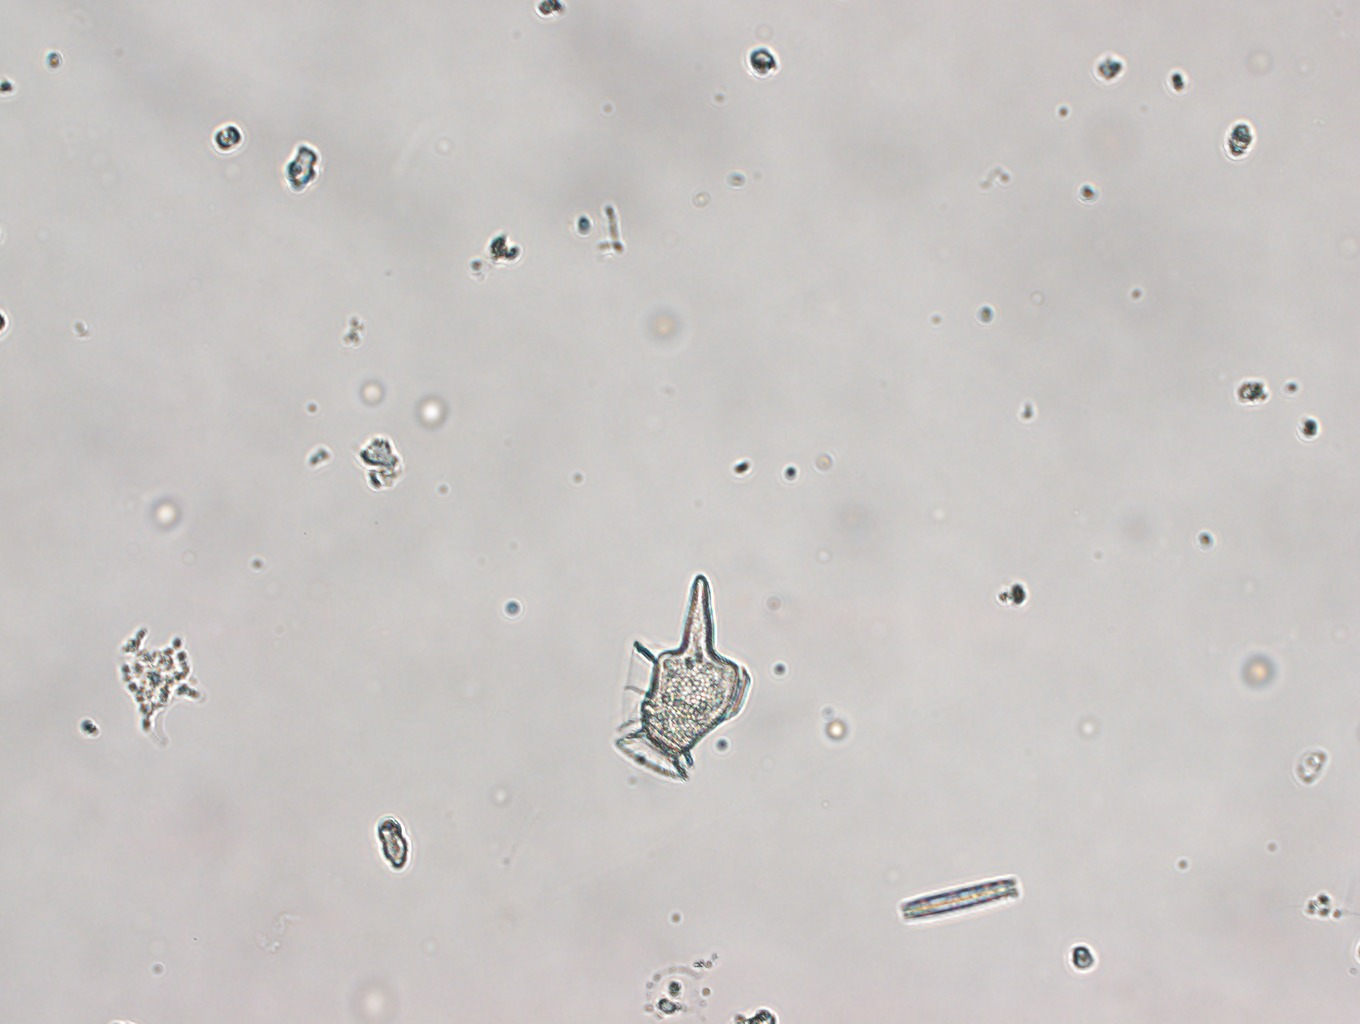dinophysis caudata: (599, 567, 759, 792)
